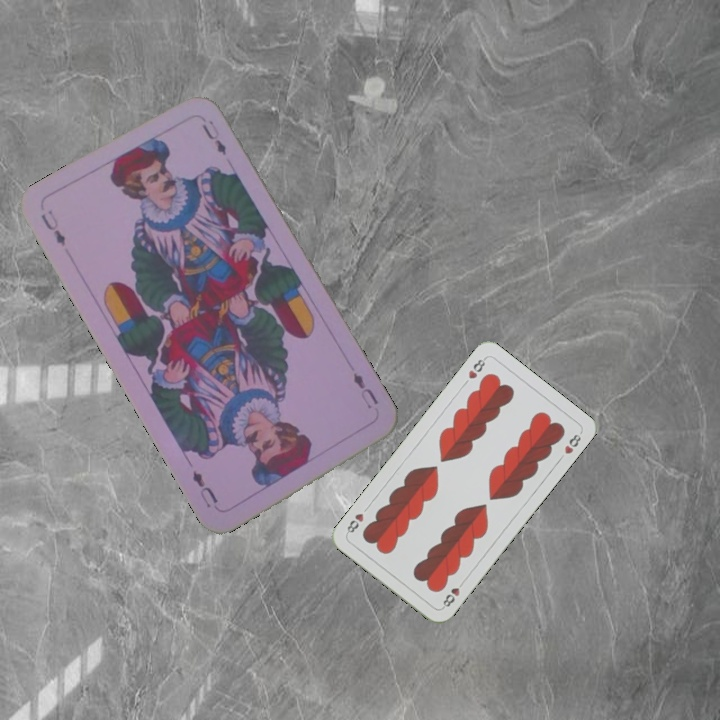EU: (348, 368, 381, 412), (37, 205, 69, 250)
H8: (438, 576, 467, 611), (464, 353, 489, 381)
